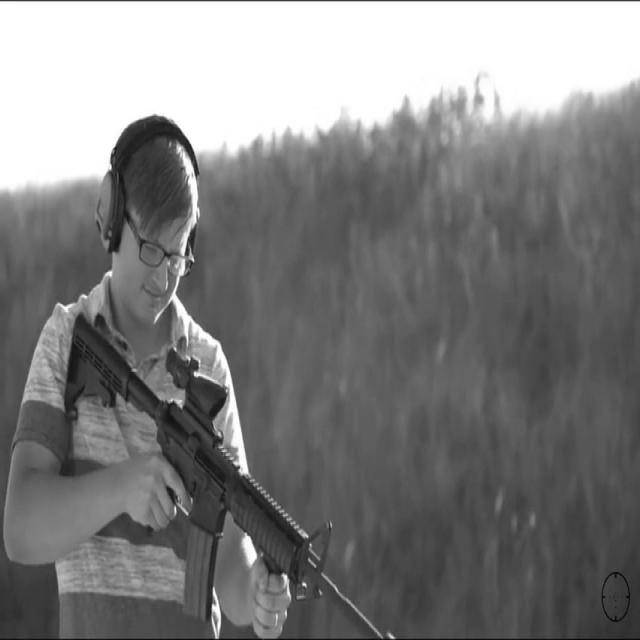Sniper: (42, 240, 411, 640)
